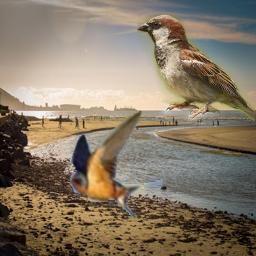Sparrow: (137, 14, 255, 121)
Swallow: (70, 110, 163, 218)
